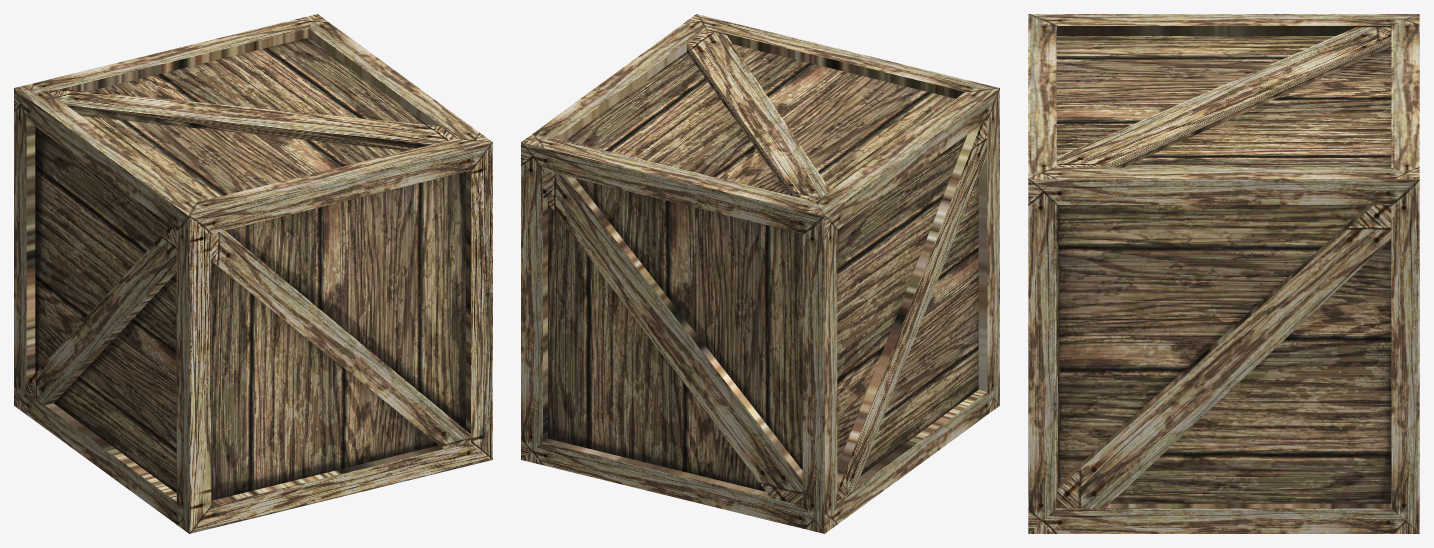
File: OpenAbleCrate.fbx
3 views of the same model, side by side, from view 1: azimuth 30°, elevation 25°; view 2: azimuth 150°, elevation 25°; view 3: azimuth 270°, elevation 25° (orthographic). The views are drawn at different scales.
Parts seen in each view (by area): view 1: Crate, Cube; view 2: Crate, Cube; view 3: Crate, Cube.
Part boxes in pixels (x1=…): Crate: x1=14, y1=14, x2=492, y2=533; Cube: x1=50, y1=37, x2=456, y2=201; Crate: x1=521, y1=14, x2=999, y2=533; Cube: x1=565, y1=30, x2=955, y2=201; Crate: x1=1028, y1=14, x2=1419, y2=533; Cube: x1=1056, y1=27, x2=1391, y2=167.
Bounding box in the file's own units: 208 × 208 × 208.
1 material, 1 textured.
